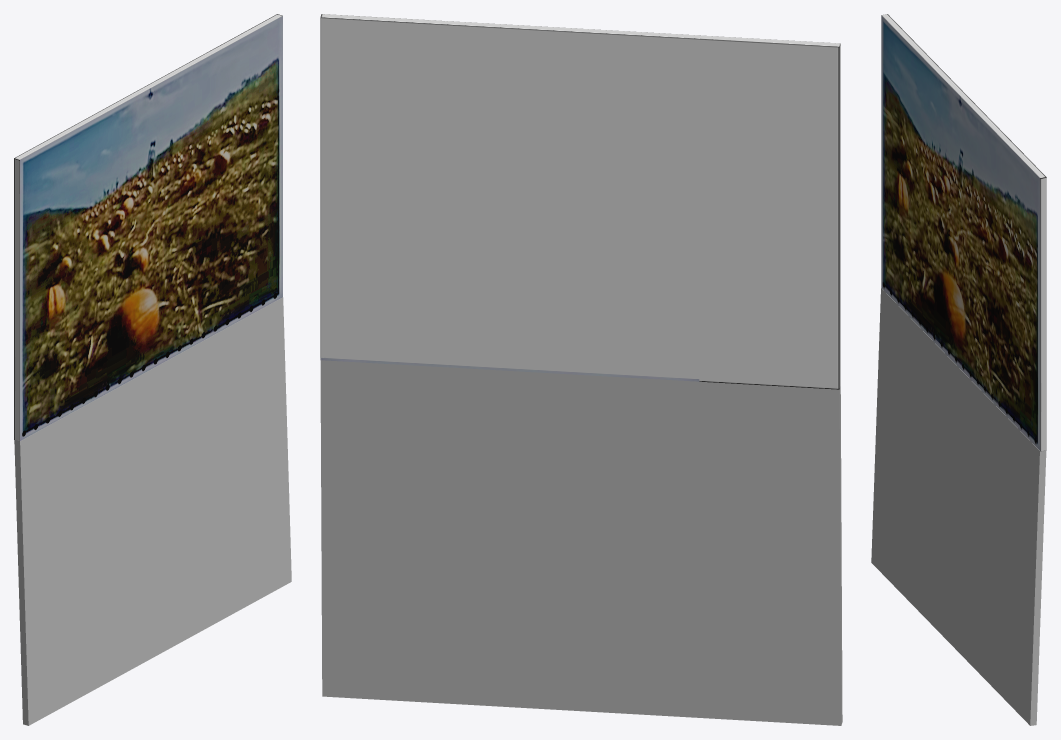
File: Calendar of Day of the Dead.obj
The picture shows the model from 3 angles, left to right: view 1: azimuth 30°, elevation 25°; view 2: azimuth 150°, elevation 25°; view 3: azimuth 270°, elevation 25°; orthographic projection. The views are drawn at different scales.
Parts seen in each view (by area): view 1: Cube001_Cube.000; view 2: Cube001_Cube.000; view 3: Cube001_Cube.000.
Boxes of the visible parts, x1,y1,x2,y2 form: Cube001_Cube.000: (14,14,291,725); Cube001_Cube.000: (320,14,842,725); Cube001_Cube.000: (871,14,1046,725).
Bounding box in the file's own units: 6.18 × 9.47 × 2.76.
